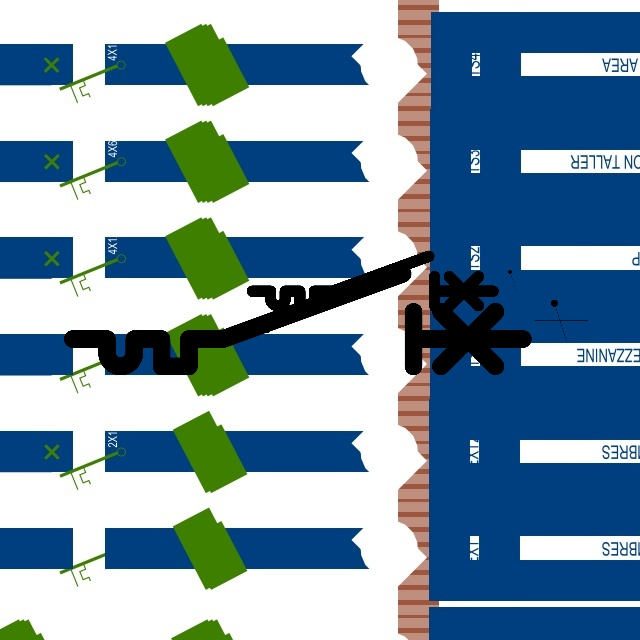interruptor_termomagnetico: (61, 262, 534, 378), (246, 250, 499, 312)
